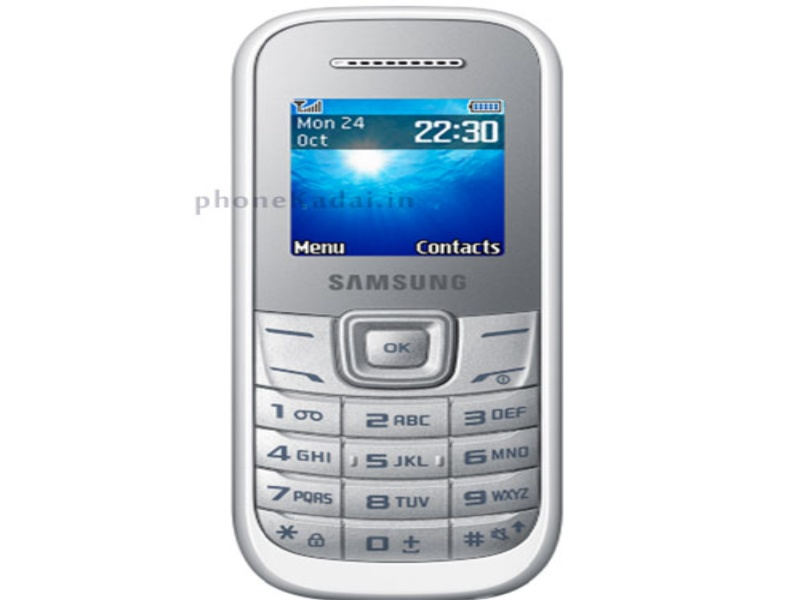mobile: (227, 9, 575, 600)
